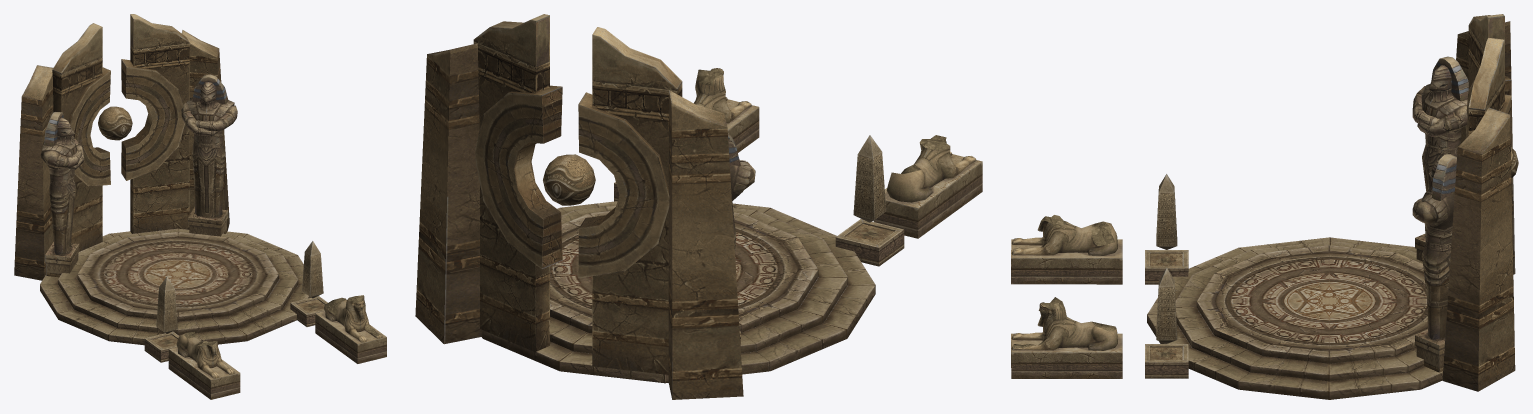
File: SC_tamalagebi_10.FBX
3 views of the same model, side by side, from view 1: azimuth 30°, elevation 25°; view 2: azimuth 150°, elevation 25°; view 3: azimuth 270°, elevation 25° (orthographic). The views are drawn at different scales.
Visible parts, largest first — view 1: SC_tamalagebi_10; view 2: SC_tamalagebi_10; view 3: SC_tamalagebi_10.
Part boxes in pixels (x1=…): SC_tamalagebi_10: x1=14, y1=14, x2=386, y2=399; SC_tamalagebi_10: x1=415, y1=14, x2=982, y2=399; SC_tamalagebi_10: x1=1011, y1=14, x2=1518, y2=399.
Size of the model in its own units: 1037 by 924 by 1442.
